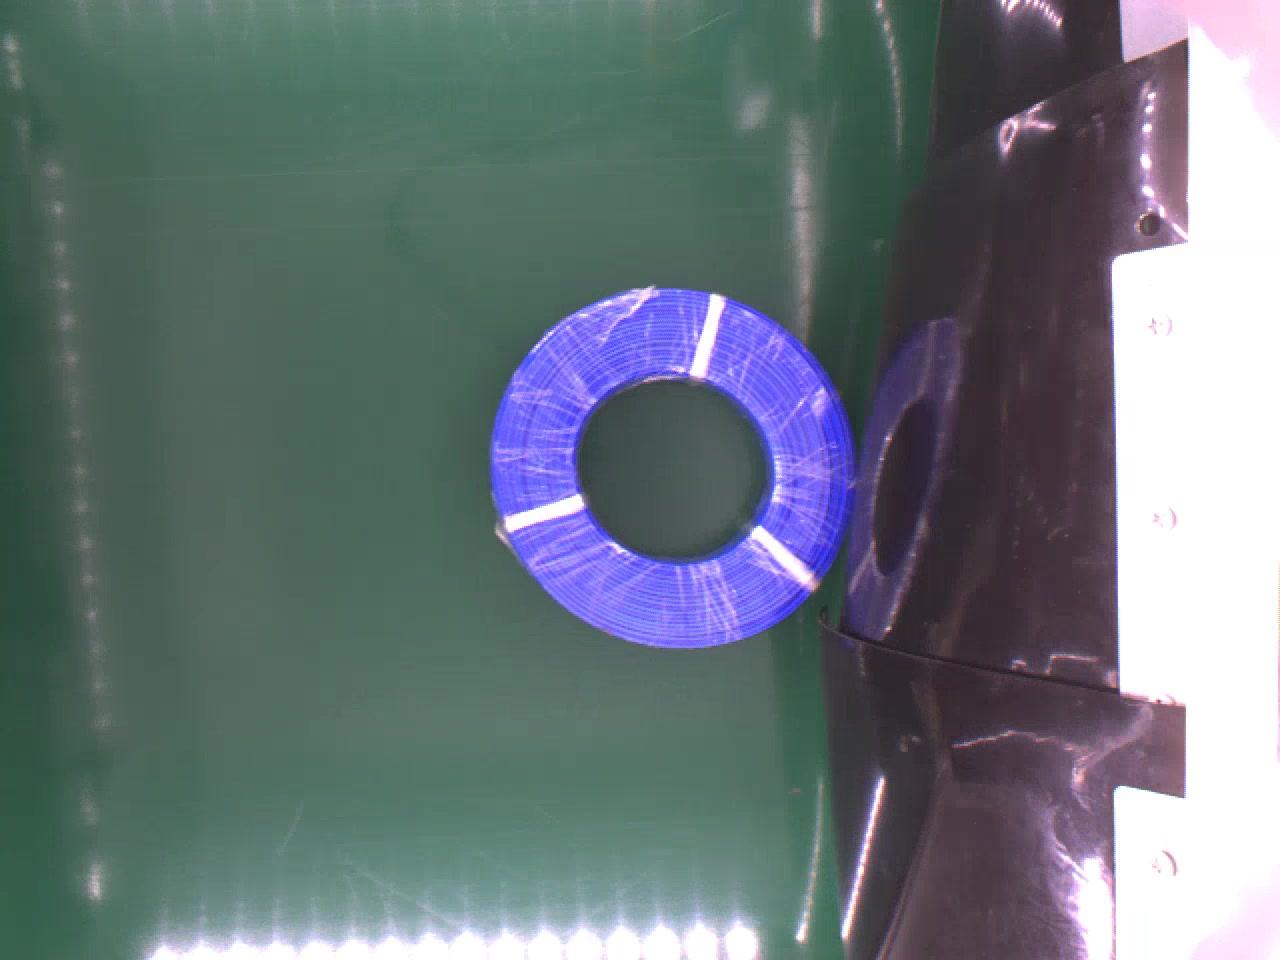blue: (478, 276, 862, 651)
